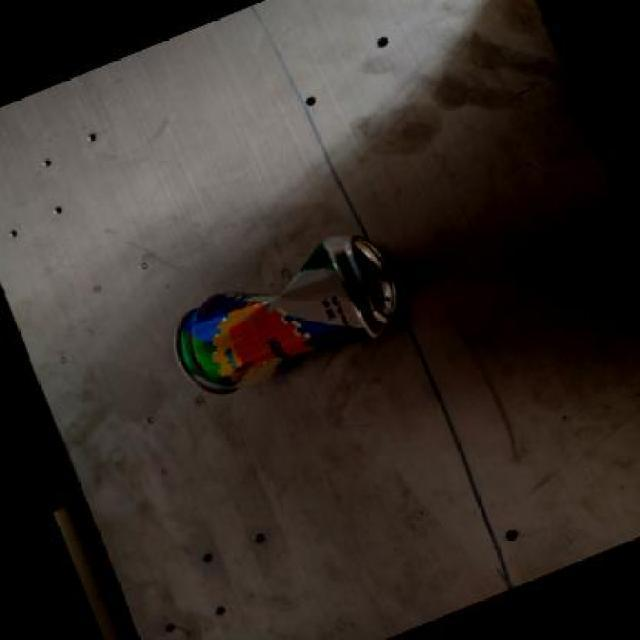metal-can: (165, 228, 416, 404)
